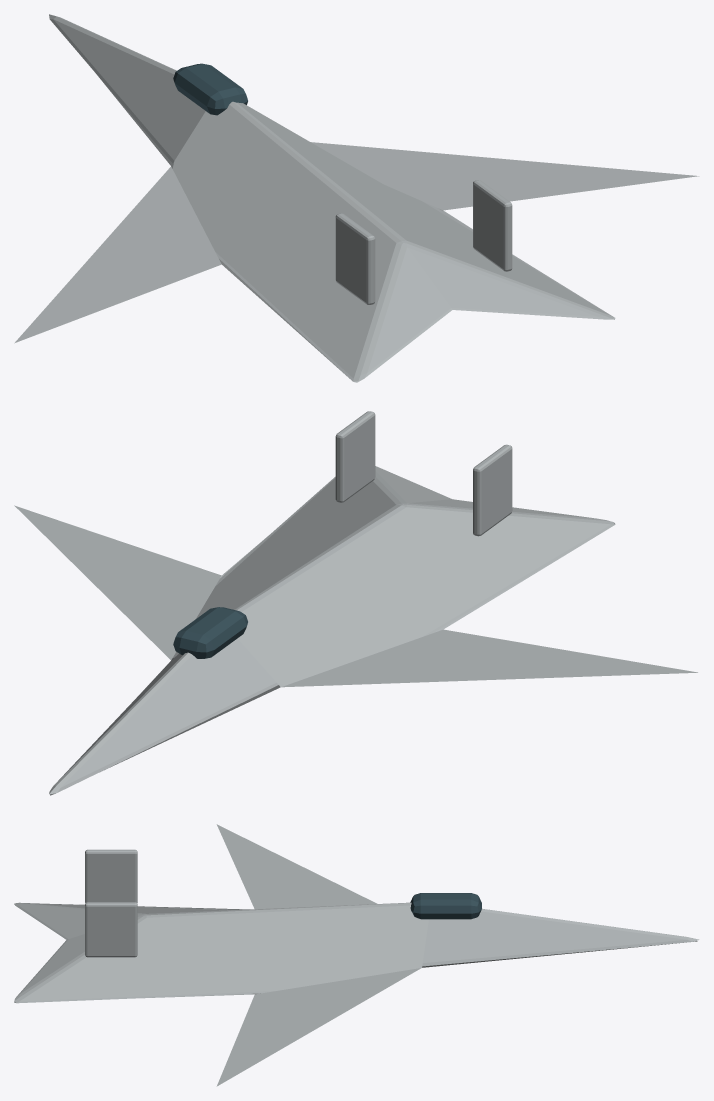
Rendered from russia_su57.glb.
The picture shows the model from 3 angles, top to bottom: view 1: azimuth 30°, elevation 25°; view 2: azimuth 150°, elevation 25°; view 3: azimuth 270°, elevation 25°; orthographic projection. The views are drawn at different scales.
Parts seen in each view (by area): view 1: airframe, left_tail, right_tail, canopy; view 2: airframe, right_tail, left_tail, canopy; view 3: airframe, right_tail, left_tail, canopy.
Part boxes in pixels (x1,y1,x2,y2): airframe: (14, 14, 699, 382); left_tail: (335, 213, 375, 304); right_tail: (473, 180, 512, 271); canopy: (173, 63, 247, 115); airframe: (14, 466, 697, 795); right_tail: (335, 411, 375, 502); left_tail: (473, 444, 512, 536); canopy: (173, 607, 247, 658); airframe: (14, 824, 699, 1086); right_tail: (85, 902, 137, 957); left_tail: (85, 849, 137, 902); canopy: (410, 893, 481, 919).
Bounding box in the file's own units: 7.8 × 1.09 × 8.61.
